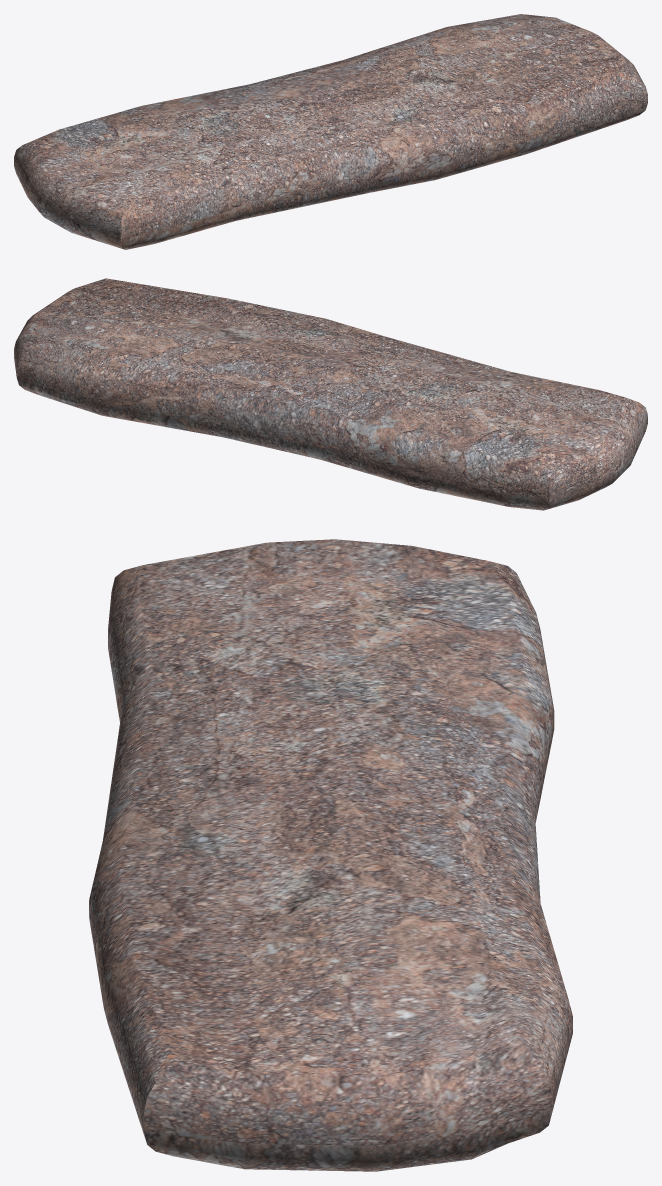
Rendered from rock.fbx.
3 renders of one model, top to bottom at view 1: azimuth 30°, elevation 25°; view 2: azimuth 150°, elevation 25°; view 3: azimuth 270°, elevation 25°, orthographic. The views are drawn at different scales.
Visible parts, largest first — view 1: Mesh; view 2: Mesh; view 3: Mesh.
Part boxes in pixels (x1=…): Mesh: x1=14, y1=14, x2=647, y2=249; Mesh: x1=14, y1=278, x2=647, y2=510; Mesh: x1=89, y1=539, x2=572, y2=1171.
Bounding box in the file's own units: 461 × 54.97 × 167.
